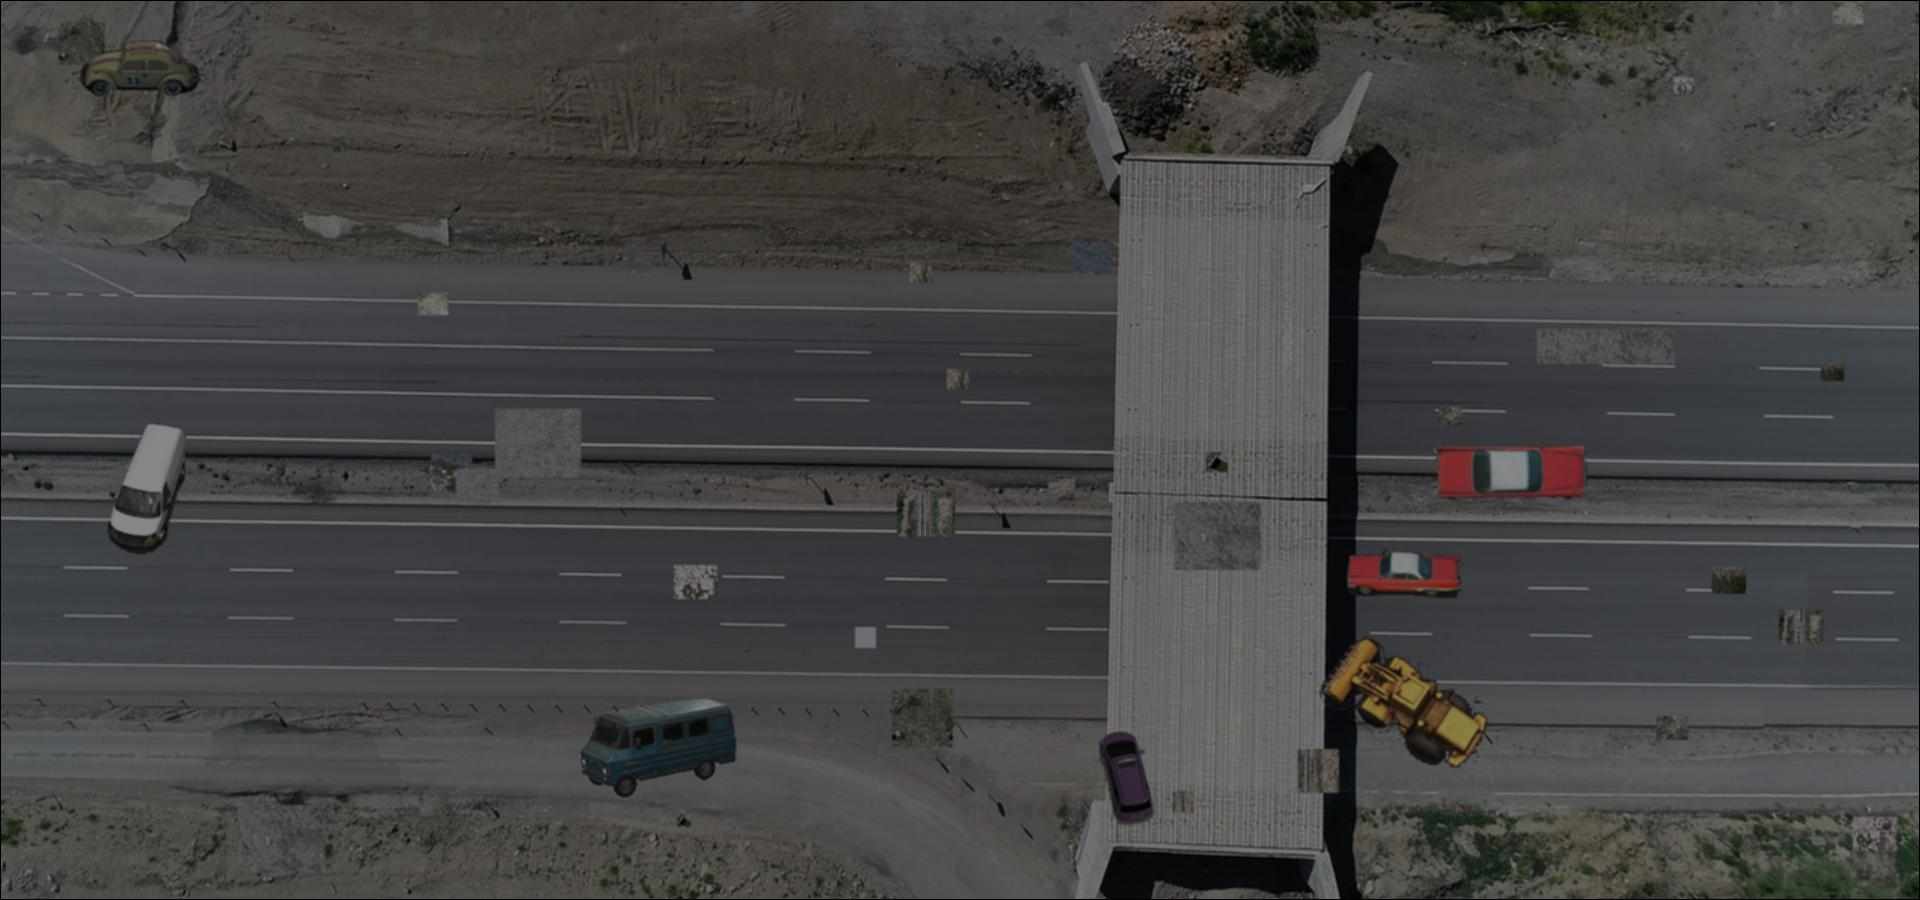arac: (1318, 636, 1499, 770), (579, 699, 736, 797), (108, 420, 189, 553), (1431, 440, 1589, 502), (72, 38, 206, 100), (1342, 549, 1476, 598), (1098, 732, 1160, 825)
